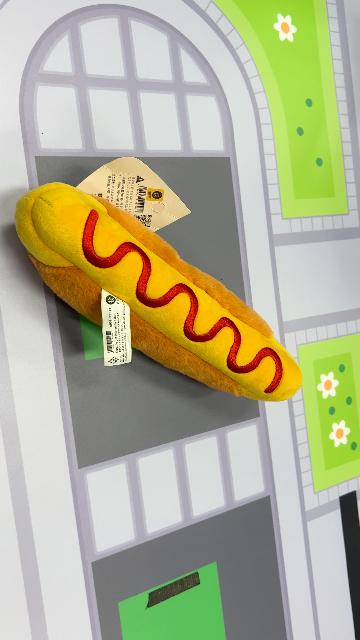hotdog: (14, 180, 304, 404)
